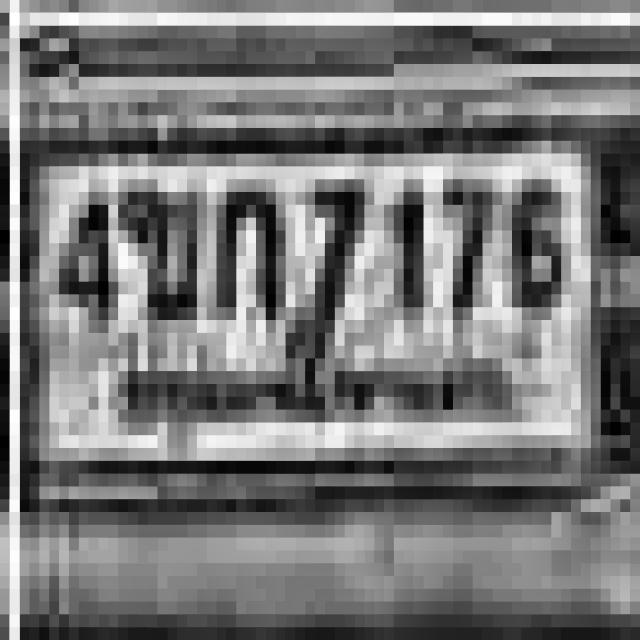license-plate: (22, 135, 609, 482)
